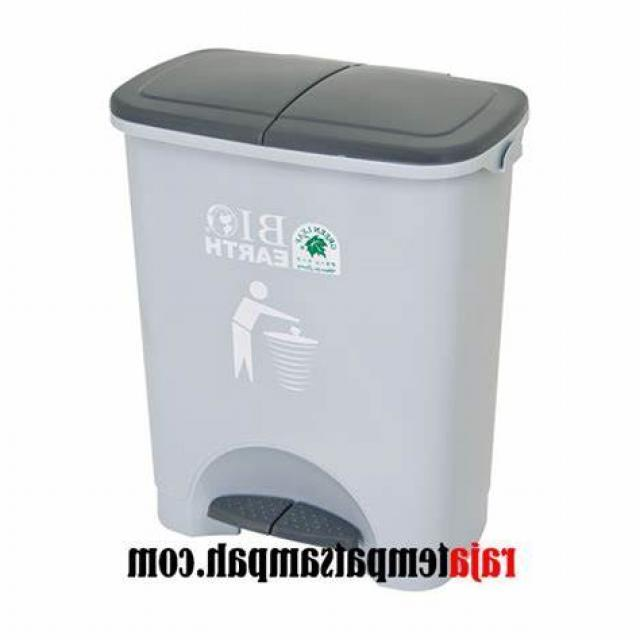garbage container: (21, 39, 576, 540)
